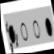correct: (43, 16, 53, 40)
not correct: (5, 18, 21, 54)
